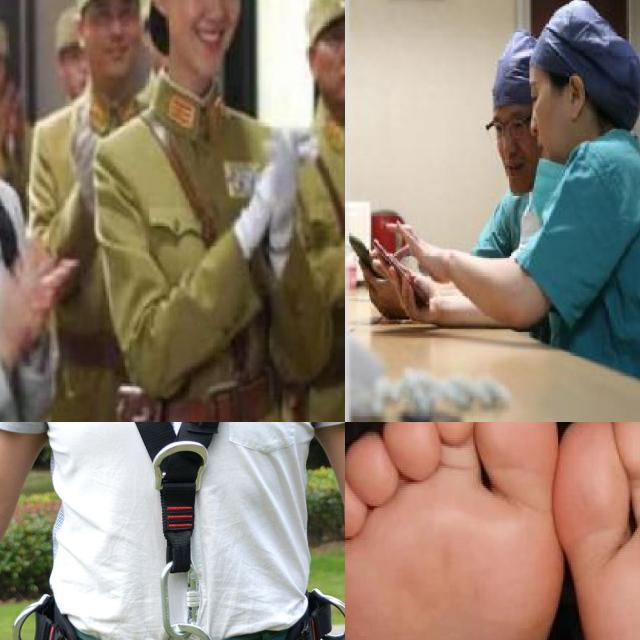Barefoots: (345, 422, 568, 640), (551, 422, 640, 640)
Harness: (35, 422, 326, 640)
No_Ear-Protection: (562, 74, 586, 120)
face_nomask: (166, 0, 241, 72), (520, 69, 576, 161), (488, 110, 533, 195), (91, 0, 134, 85)
glasses: (482, 115, 529, 141)
hand_glove: (248, 130, 302, 248), (68, 103, 96, 199)
hand_noglove: (0, 245, 60, 353), (379, 247, 445, 329), (383, 220, 448, 282), (358, 246, 400, 316)
head_nohelmet: (525, 0, 628, 93), (489, 37, 547, 118)
person: (103, 0, 317, 422), (512, 19, 640, 379), (0, 0, 69, 422)
